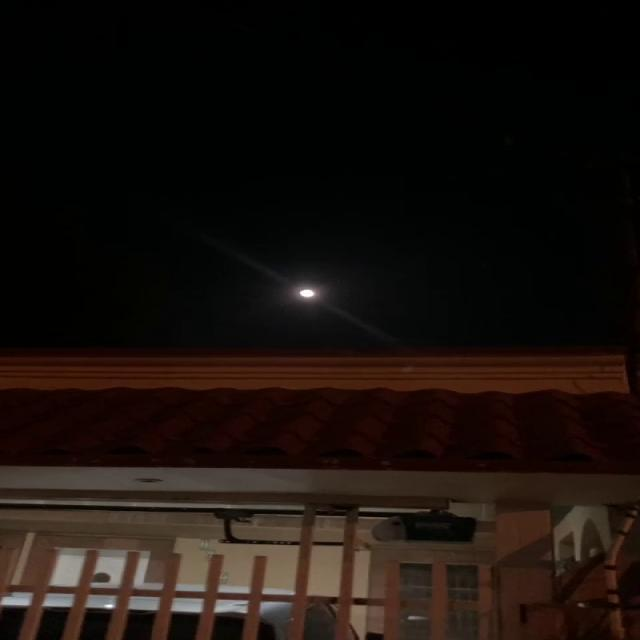moon: (291, 277, 324, 309)
